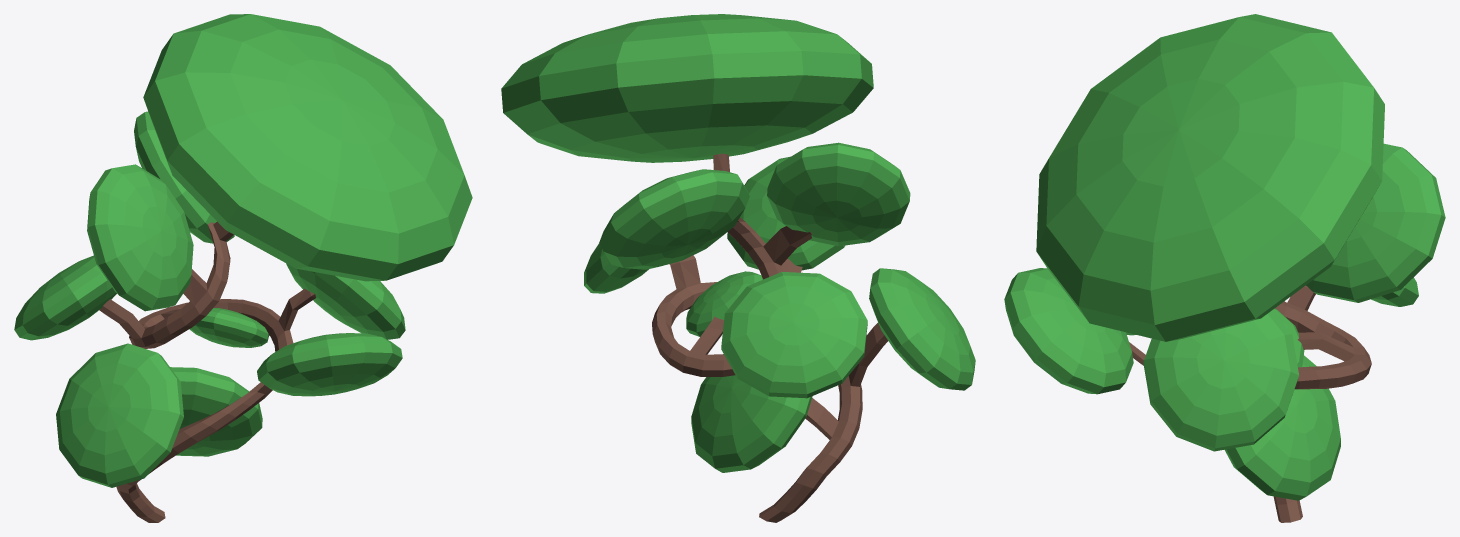
The picture shows the model from 3 angles, left to right: view 1: azimuth 30°, elevation 25°; view 2: azimuth 150°, elevation 25°; view 3: azimuth 270°, elevation 25°; orthographic projection. The views are drawn at different scales.
Parts seen in each view (by area): view 1: mesh_2066434731, mesh_1861586618, mesh_1814269884, group_1072661436, mesh_26929146, mesh_416458669, mesh_1253570923, mesh_1451120033, mesh_1978788804, mesh_343396769; view 2: mesh_2066434731, mesh_416458669, group_1072661436, mesh_1814269884, mesh_1978788804, mesh_1451120033, mesh_1861586618, mesh_26929146, mesh_343396769, mesh_1253570923; view 3: mesh_2066434731, mesh_1253570923, mesh_1978788804, mesh_26929146, mesh_1451120033, group_1072661436, mesh_416458669.
Boxes of the visible parts, x1,y1,x2,y2 form: mesh_2066434731: (143, 14, 472, 281); mesh_1861586618: (56, 343, 183, 487); mesh_1814269884: (87, 164, 193, 311); group_1072661436: (99, 221, 316, 522); mesh_26929146: (257, 333, 402, 396); mesh_416458669: (14, 255, 116, 340); mesh_1253570923: (286, 263, 405, 339); mesh_1451120033: (170, 367, 262, 456); mesh_1978788804: (134, 111, 234, 243); mesh_343396769: (189, 308, 268, 347); mesh_2066434731: (501, 14, 873, 162); mesh_416458669: (721, 272, 867, 398); group_1072661436: (652, 153, 887, 522); mesh_1814269884: (767, 142, 910, 246); mesh_1978788804: (599, 169, 749, 269); mesh_1451120033: (691, 354, 812, 472); mesh_1861586618: (869, 268, 975, 390); mesh_26929146: (727, 156, 845, 270); mesh_343396769: (686, 271, 762, 336); mesh_1253570923: (584, 243, 648, 293); mesh_2066434731: (1036, 14, 1384, 341); mesh_1253570923: (1143, 310, 1299, 451); mesh_1978788804: (1306, 143, 1445, 302); mesh_26929146: (1004, 268, 1133, 394); mesh_1451120033: (1224, 355, 1340, 500); group_1072661436: (1129, 285, 1371, 522); mesh_416458669: (1371, 277, 1418, 306).
Bounding box in the file's own units: 145 × 158 × 122.
